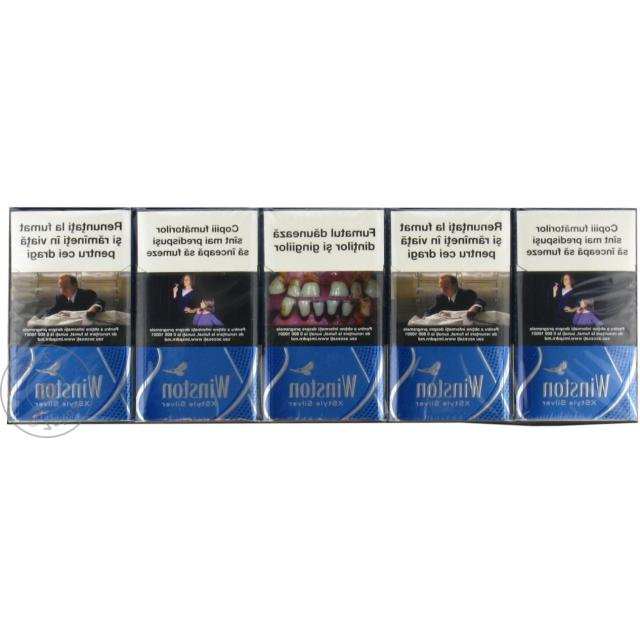winston: (5, 208, 134, 426), (387, 205, 514, 424), (134, 208, 262, 424), (262, 205, 387, 425), (513, 208, 640, 424)
